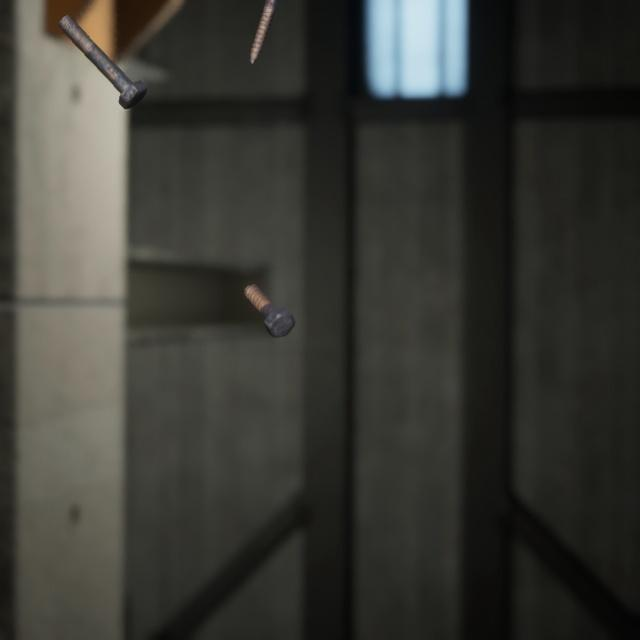bolt: (53, 1, 151, 103), (240, 262, 299, 323), (244, 0, 280, 60)
